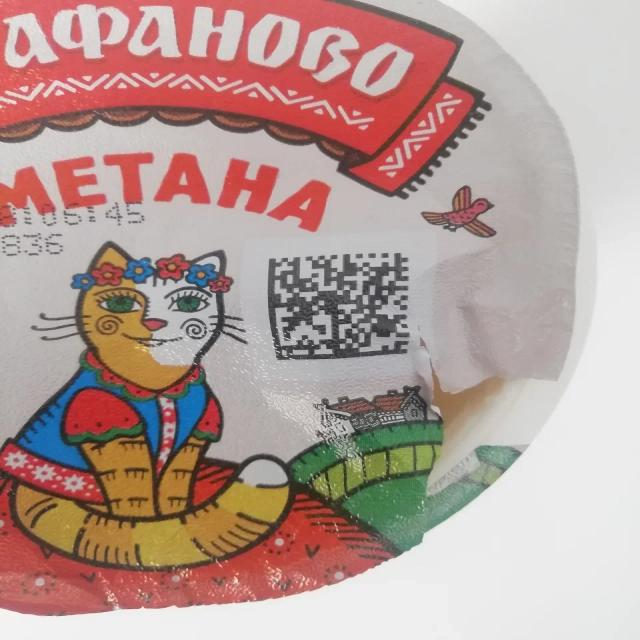datamatrix: (266, 251, 413, 364)
